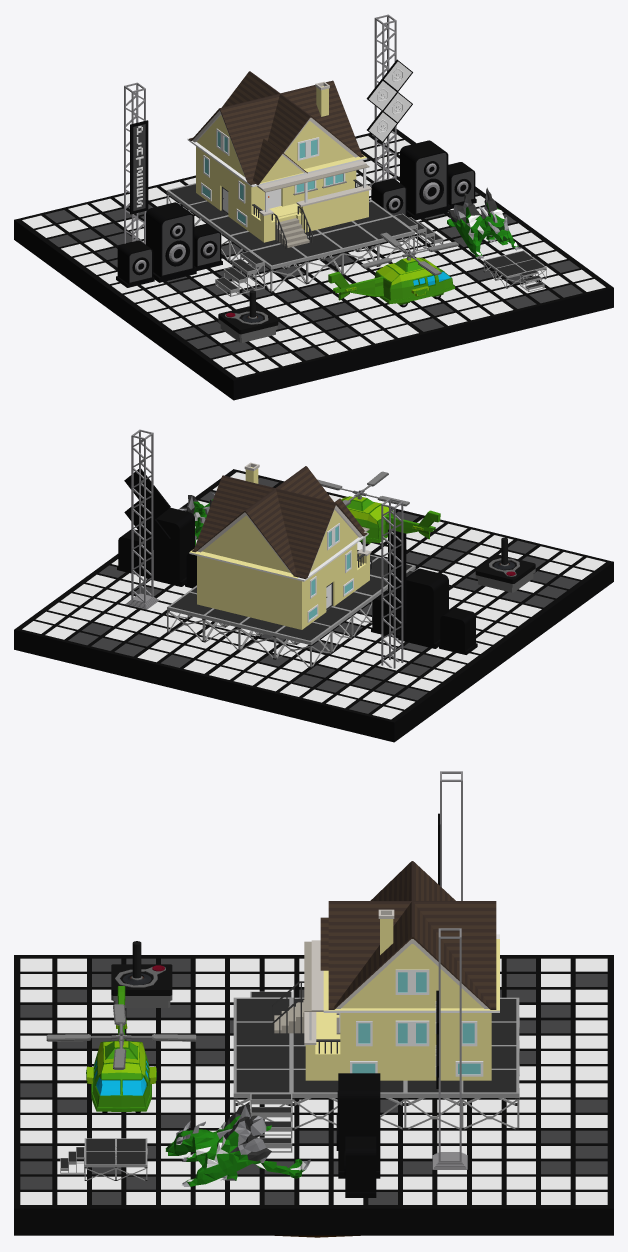
The picture shows the model from 3 angles, top to bottom: view 1: azimuth 30°, elevation 25°; view 2: azimuth 150°, elevation 25°; view 3: azimuth 270°, elevation 25°; orthographic projection. The views are drawn at different scales.
Parts seen in each view (by area): view 1: Cube.008, Cube.1555, VEHICLES_HELICOPTER, ANIMAL_DRAGON, OBJRANDOM_JOYSTICK; view 2: Cube.008, Cube.1555, VEHICLES_HELICOPTER, OBJRANDOM_JOYSTICK, ANIMAL_DRAGON; view 3: Cube.008, Cube.1555, VEHICLES_HELICOPTER, ANIMAL_DRAGON, OBJRANDOM_JOYSTICK.
Boxes of the visible parts, x1,y1,x2,y2 form: Cube.008: [14, 14, 613, 400]; Cube.1555: [187, 71, 371, 249]; VEHICLES_HELICOPTER: [328, 232, 459, 307]; ANIMAL_DRAGON: [447, 187, 521, 258]; OBJRANDOM_JOYSTICK: [218, 290, 278, 342]; Cube.008: [14, 429, 613, 742]; Cube.1555: [189, 462, 372, 629]; VEHICLES_HELICOPTER: [317, 471, 440, 546]; OBJRANDOM_JOYSTICK: [475, 537, 535, 592]; ANIMAL_DRAGON: [179, 492, 214, 545]; Cube.008: [14, 771, 613, 1235]; Cube.1555: [272, 861, 499, 1080]; VEHICLES_HELICOPTER: [46, 986, 196, 1113]; ANIMAL_DRAGON: [165, 1102, 310, 1186]; OBJRANDOM_JOYSTICK: [111, 941, 172, 1007].
Bounding box in the file's own units: 4000 × 2038 × 4000.
47 materials, 1 textured.
